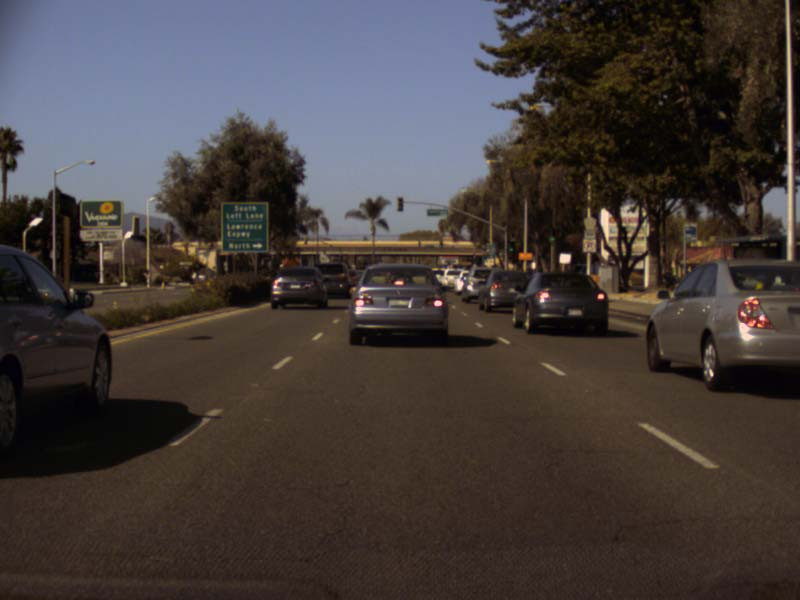Green: (507, 241, 514, 253), (550, 228, 555, 241)
